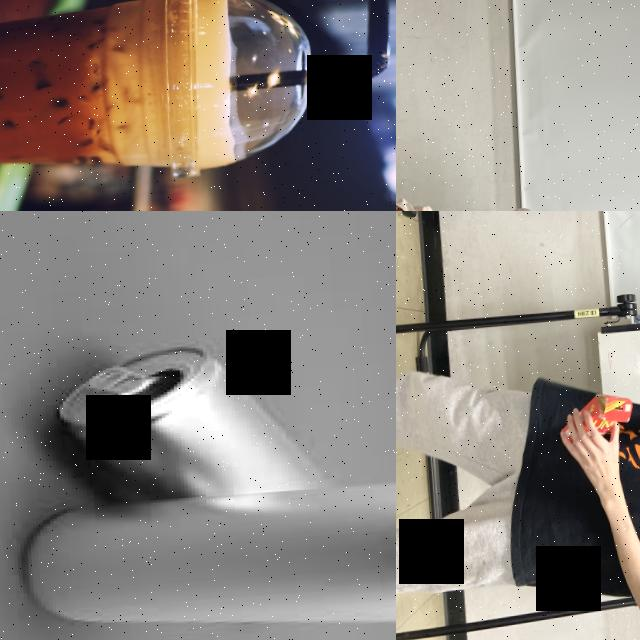can: (10, 474, 396, 640), (42, 338, 338, 512)
cup: (0, 0, 324, 197)
